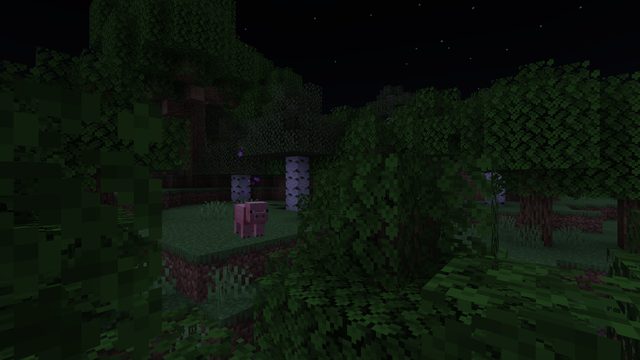cochons: (227, 202, 270, 239)
